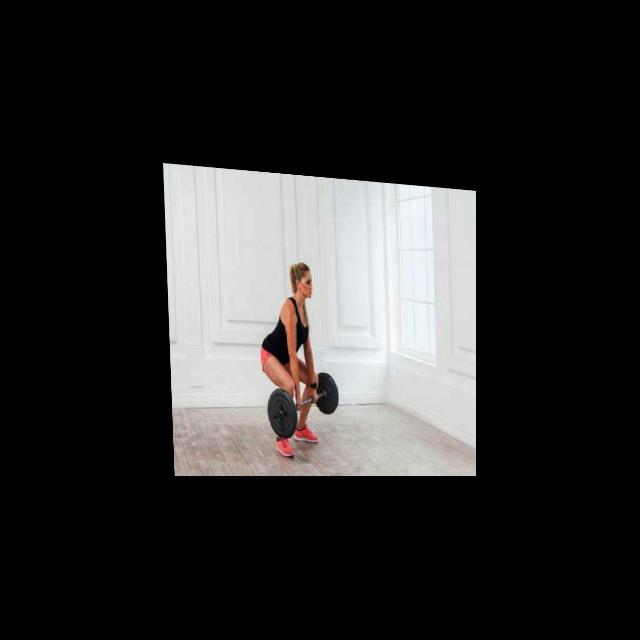barbell: (263, 382, 298, 439)
